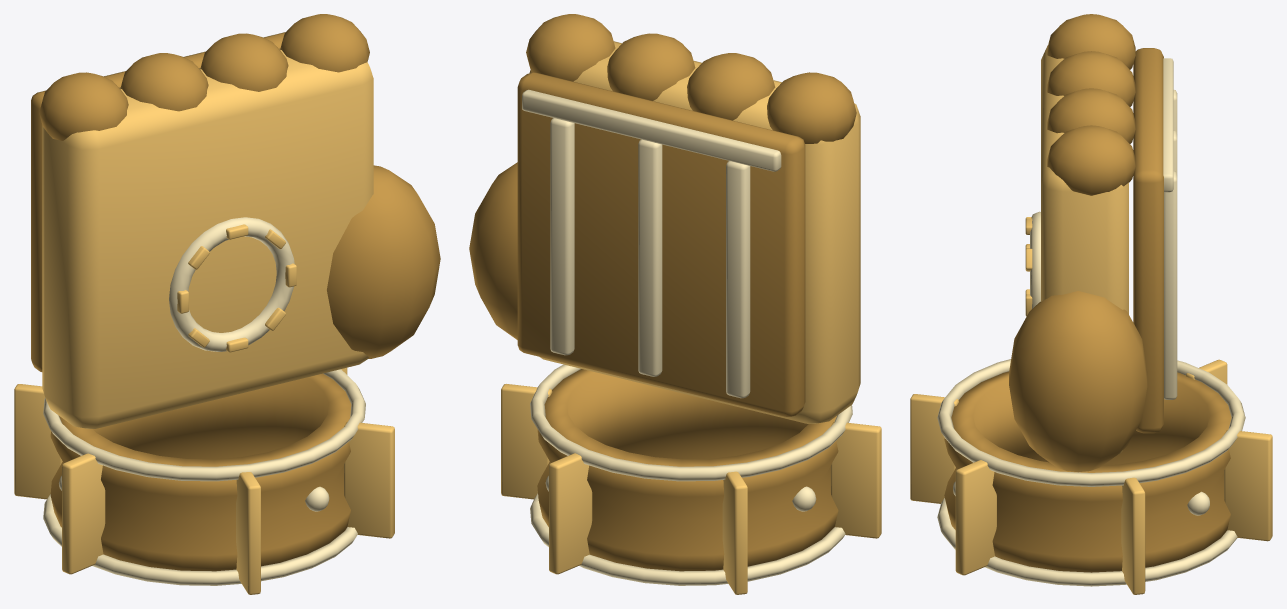
Rendered from BossHand.glb.
3 renders of one model, left to right at view 1: azimuth 30°, elevation 25°; view 2: azimuth 150°, elevation 25°; view 3: azimuth 270°, elevation 25°, orthographic. The views are drawn at different scales.
Visible parts, largest first — view 1: HandPalm__Gold_1, HandPalm__GoldDeep_1, HandPalm__GoldPale_1; view 2: HandPalm__GoldDeep_1, HandPalm__Gold_1, HandPalm__GoldPale_1; view 3: HandPalm__GoldDeep_1, HandPalm__Gold_1, HandPalm__GoldPale_1.
Boxes of the visible parts, bbox=[...] form: HandPalm__Gold_1: bbox=[14, 48, 394, 594]; HandPalm__GoldDeep_1: bbox=[31, 14, 440, 571]; HandPalm__GoldPale_1: bbox=[37, 32, 365, 585]; HandPalm__GoldDeep_1: bbox=[469, 14, 856, 571]; HandPalm__Gold_1: bbox=[501, 41, 881, 594]; HandPalm__GoldPale_1: bbox=[522, 89, 852, 585]; HandPalm__GoldDeep_1: bbox=[944, 14, 1231, 572]; HandPalm__Gold_1: bbox=[910, 45, 1272, 594]; HandPalm__GoldPale_1: bbox=[937, 58, 1245, 586].
Bounding box in the file's own units: 9.63 × 11.27 × 8.25.
